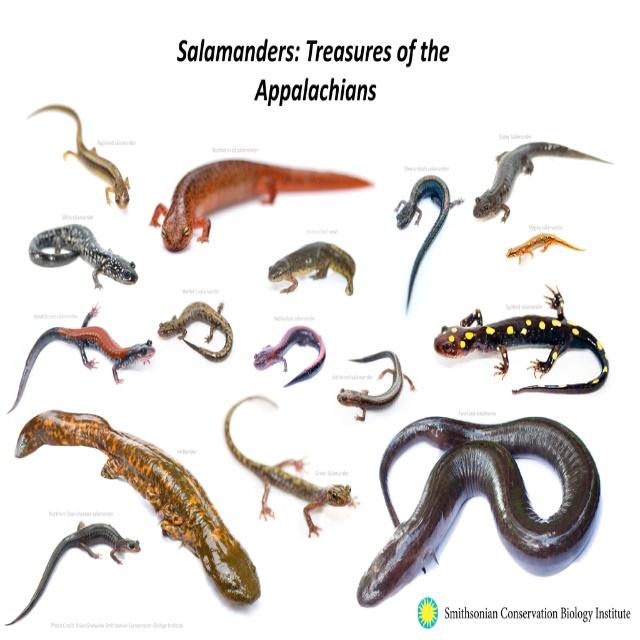Lizard: (361, 415, 602, 602), (148, 159, 371, 251), (445, 311, 615, 411), (0, 521, 141, 633), (3, 299, 150, 403), (250, 396, 349, 532), (475, 134, 610, 229), (27, 97, 125, 204), (392, 168, 463, 312), (28, 212, 132, 282), (250, 322, 328, 391), (344, 345, 406, 430), (158, 299, 234, 354), (504, 238, 585, 270)
